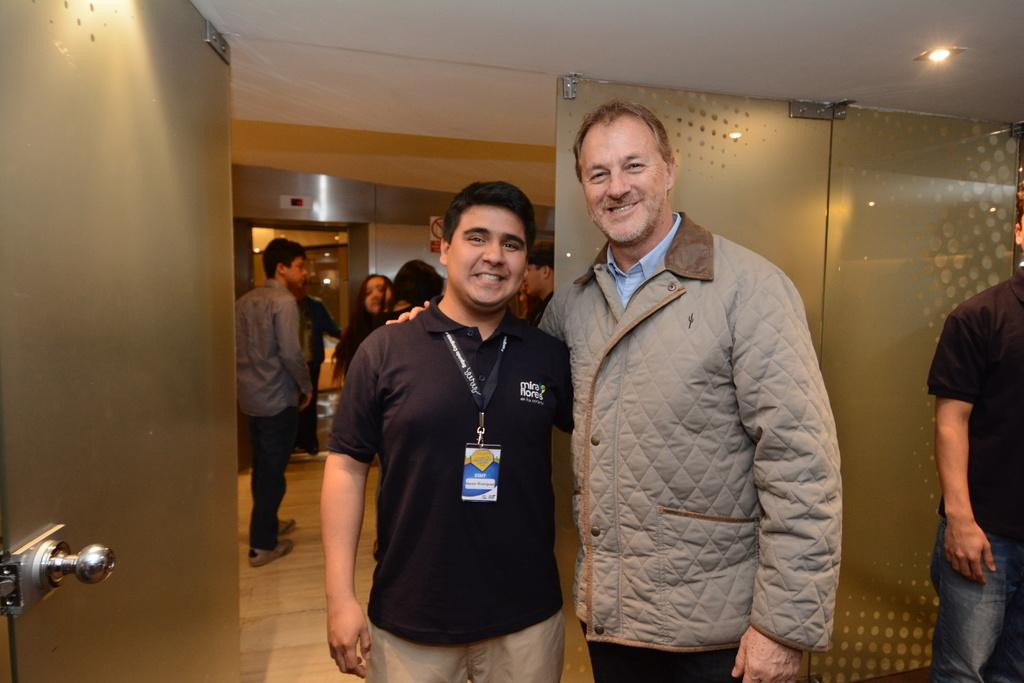Sem Máscara: (574, 109, 666, 244), (443, 199, 525, 300), (362, 273, 389, 311), (284, 255, 306, 286), (522, 263, 543, 295)
